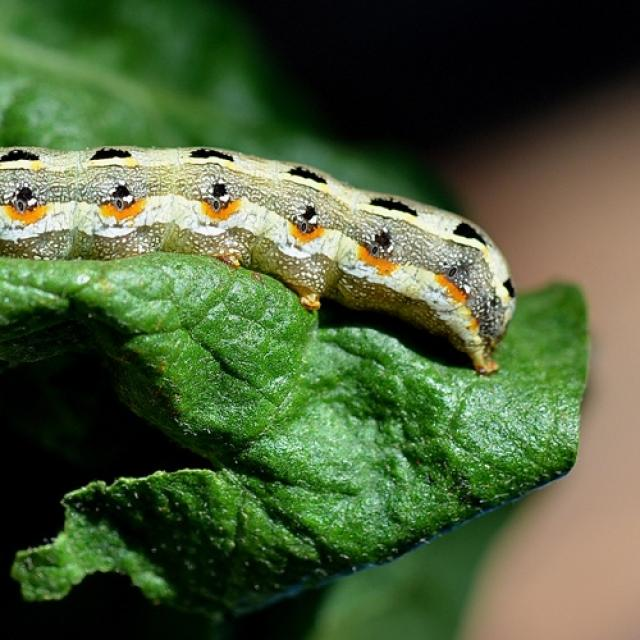armyworm: (0, 142, 517, 376)
